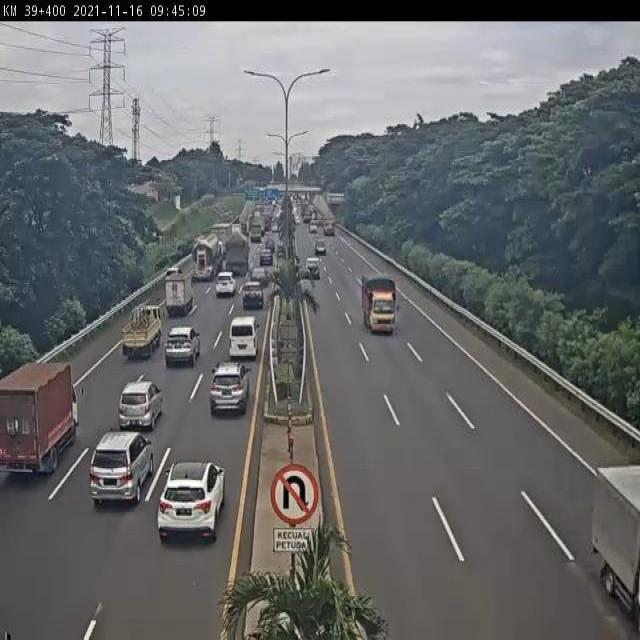car: (158, 463, 226, 541), (88, 431, 155, 506), (117, 380, 163, 429), (211, 364, 251, 413), (166, 327, 200, 362), (213, 274, 234, 302), (242, 286, 263, 314), (248, 264, 270, 288)
small bus: (230, 319, 257, 357)
small truck: (123, 307, 165, 357), (163, 275, 194, 317)
truck-l-: (221, 234, 248, 278)
truck-m-: (0, 364, 84, 475), (361, 275, 397, 333)
truck-xl-: (192, 235, 221, 282)
